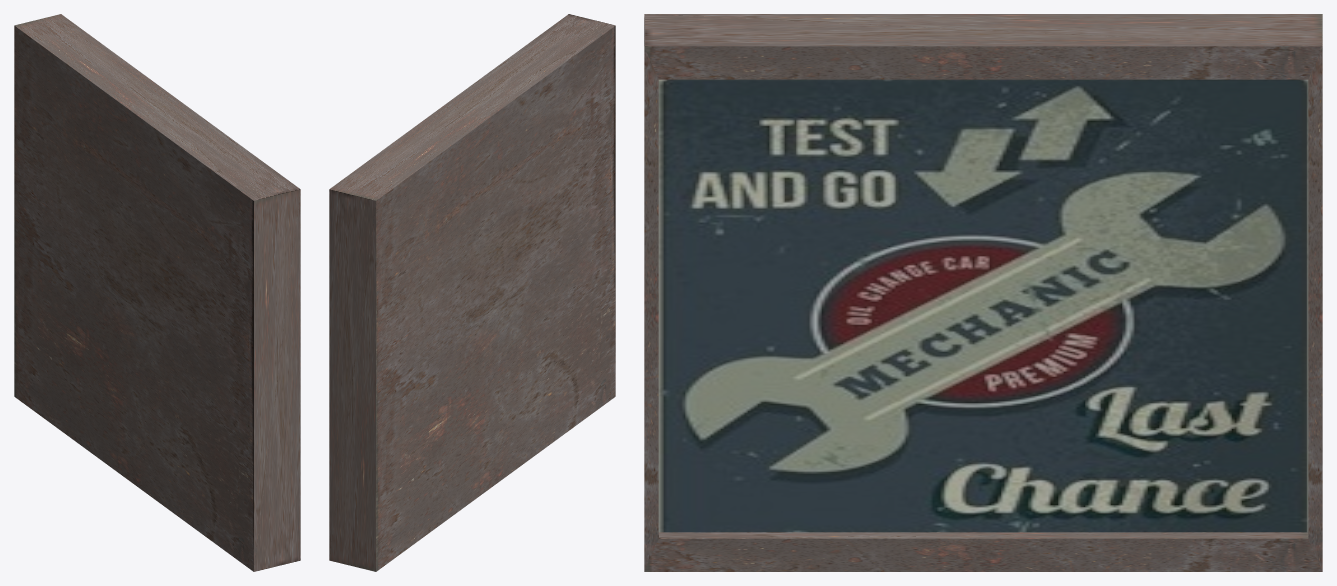
The model's file is tableau4.fbx.
3 views of the same model, side by side, from view 1: azimuth 30°, elevation 25°; view 2: azimuth 150°, elevation 25°; view 3: azimuth 270°, elevation 25° (orthographic). The views are drawn at different scales.
Parts seen in each view (by area): view 1: tableau4; view 2: tableau4; view 3: tableau4.
Boxes of the visible parts, x1,y1,x2,y2 form: tableau4: (14, 14, 300, 571); tableau4: (329, 14, 615, 571); tableau4: (644, 14, 1322, 571).
Size of the model in its own units: 14.84 by 112 by 131.
Materials: 2 (2 with a texture image).
